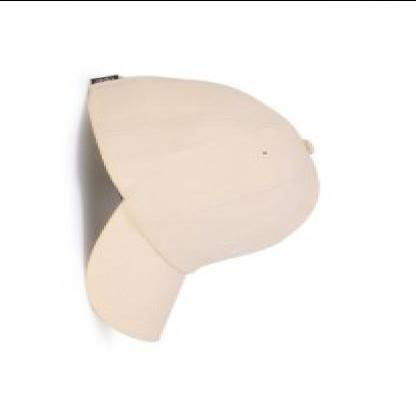cap: (69, 62, 336, 350)
